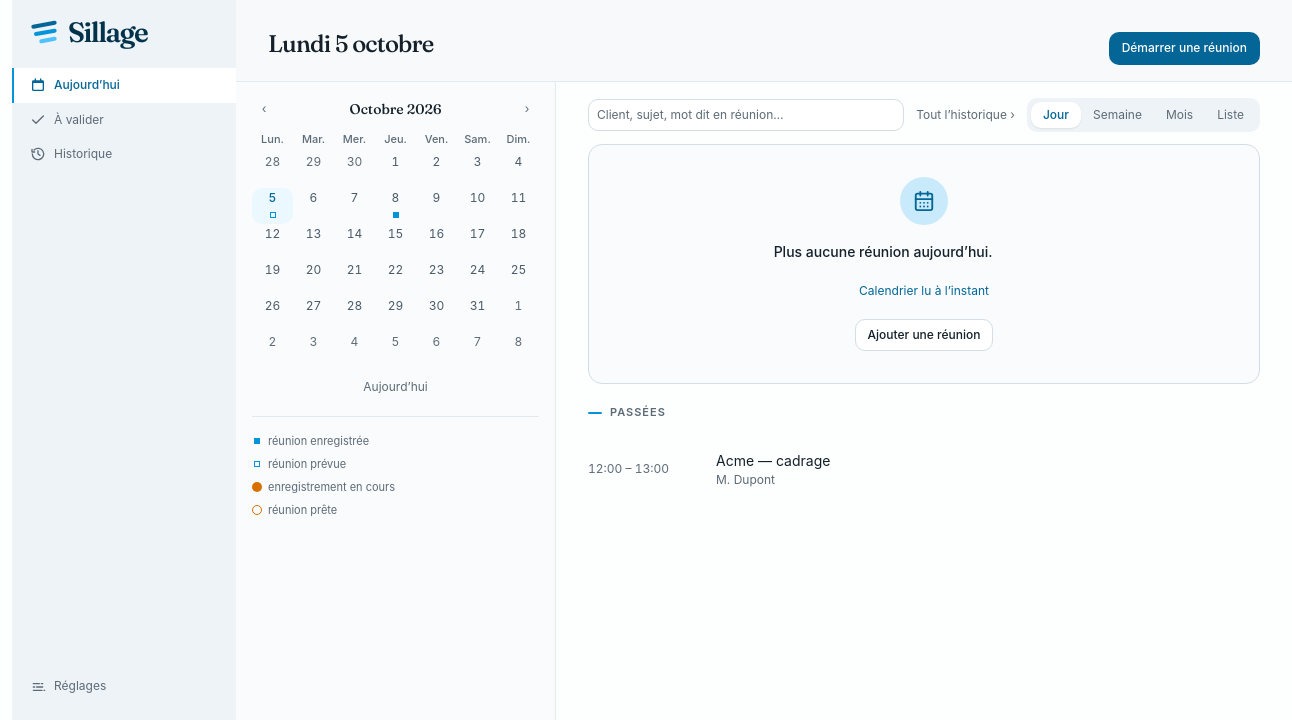
meetings already held are reachable from the calendar › a meeting created in the app sits in the grid beside the ones from Outlook
Expected: the text "Acme — cadrage" is shown, [716,452,830,468]
Click the 1st button "8": (396, 206) [375,188,416,224]
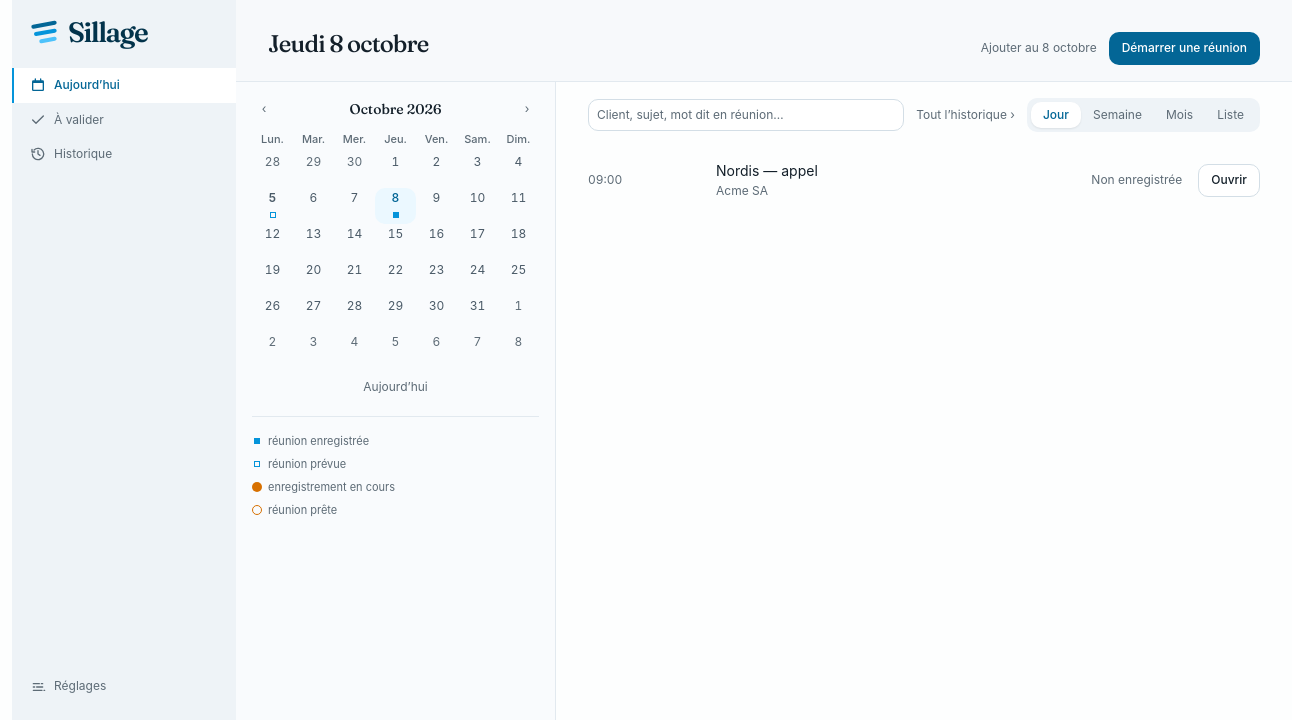
Expected: the text "Nordis — appel" is shown, [716,162,818,179]
